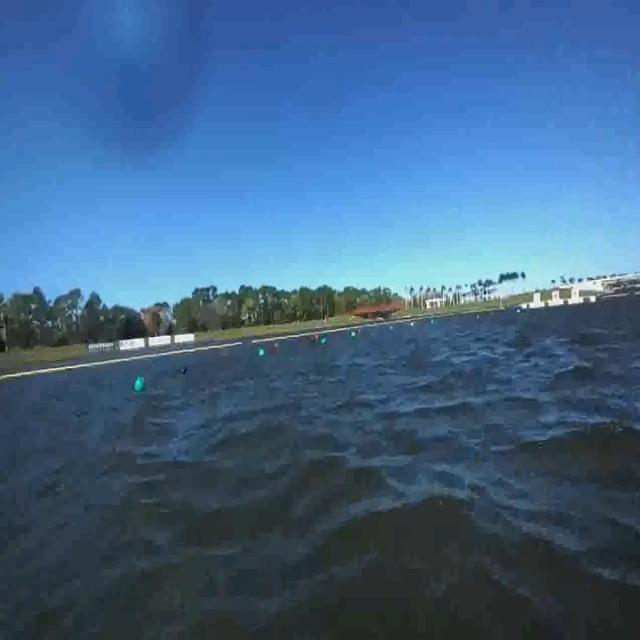green-buoy: (135, 376, 146, 394)
